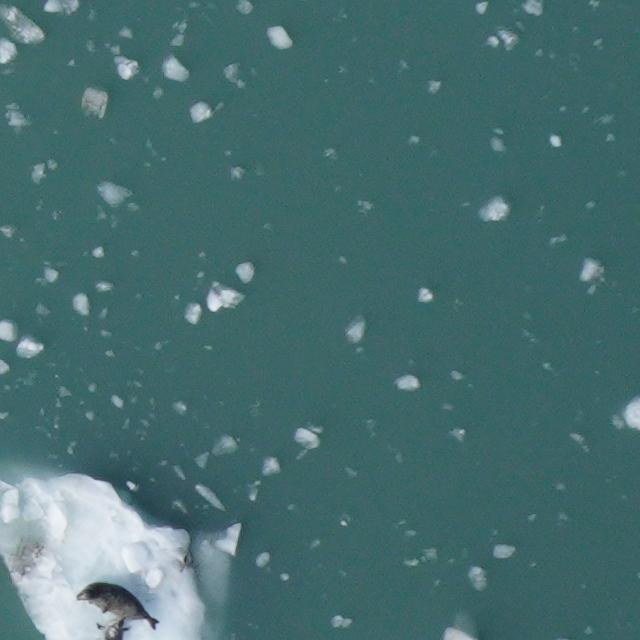seal: (71, 577, 164, 634), (91, 613, 136, 640)
